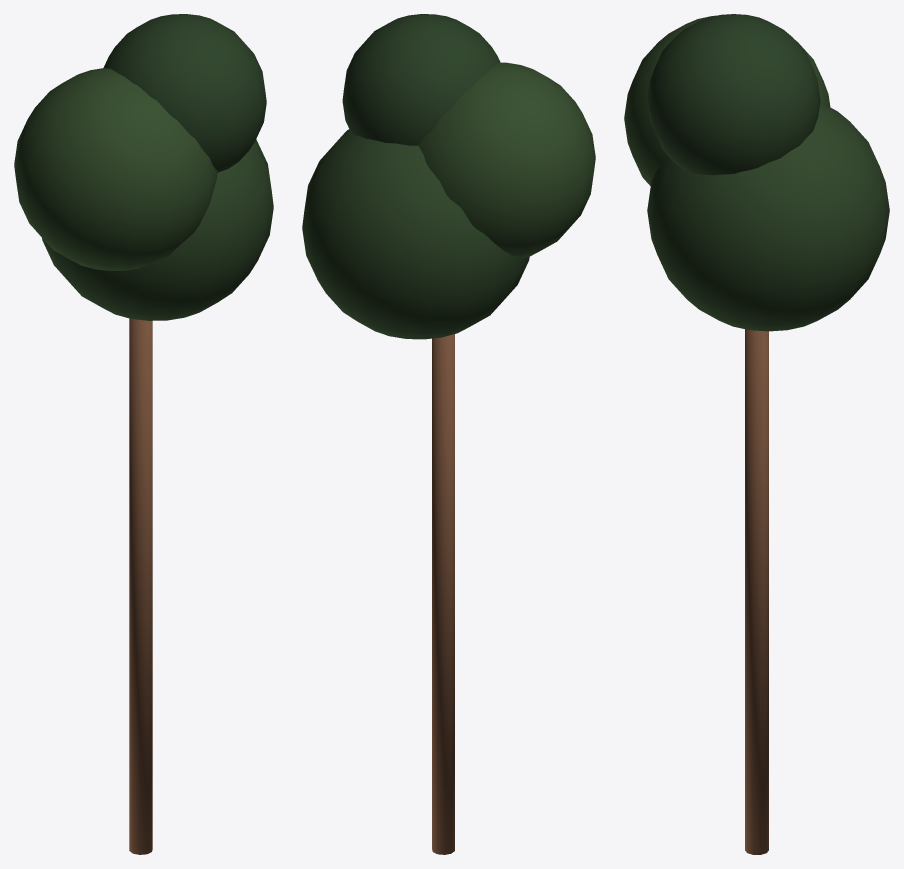
Rendered from Tree_pine.fbx.
3 renders of one model, left to right at view 1: azimuth 30°, elevation 25°; view 2: azimuth 150°, elevation 25°; view 3: azimuth 270°, elevation 25°, orthographic. The views are drawn at different scales.
Visible parts, largest first — view 1: Crown2, Crown1, Crown3, Trunk; view 2: Crown1, Crown2, Crown3, Trunk; view 3: Crown1, Crown3, Trunk, Crown2.
Boxes of the visible parts, box(x1,y1,x2,y2) form: Crown2: box(14, 68, 217, 270); Crown1: box(42, 139, 273, 320); Crown3: box(103, 14, 266, 172); Trunk: box(129, 318, 152, 854); Crown1: box(302, 129, 529, 339); Crown2: box(418, 62, 595, 257); Crown3: box(342, 14, 500, 145); Trunk: box(432, 334, 454, 854); Crown1: box(647, 102, 889, 331); Crown3: box(647, 14, 820, 175); Trunk: box(745, 329, 768, 854); Crown2: box(624, 15, 830, 185).
Bounding box in the file's own units: 510 × 460 × 1610.
